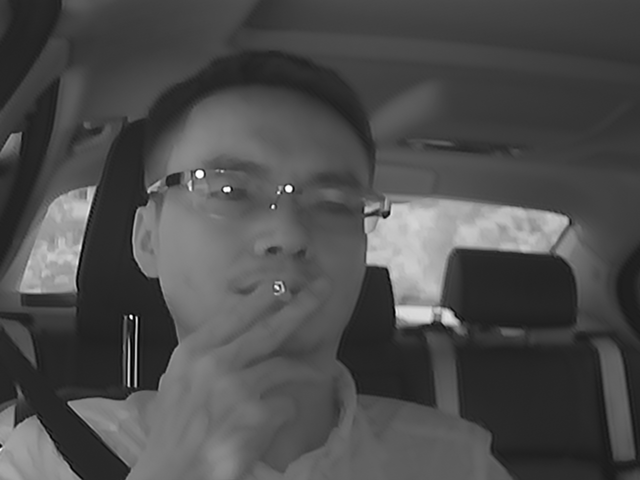hand: (187, 266, 330, 440)
